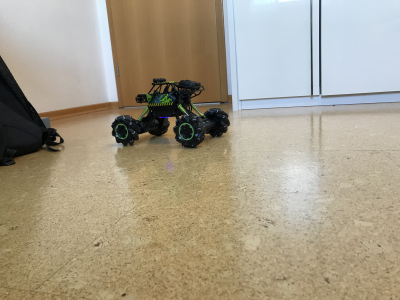remote control car: (108, 74, 232, 151)
